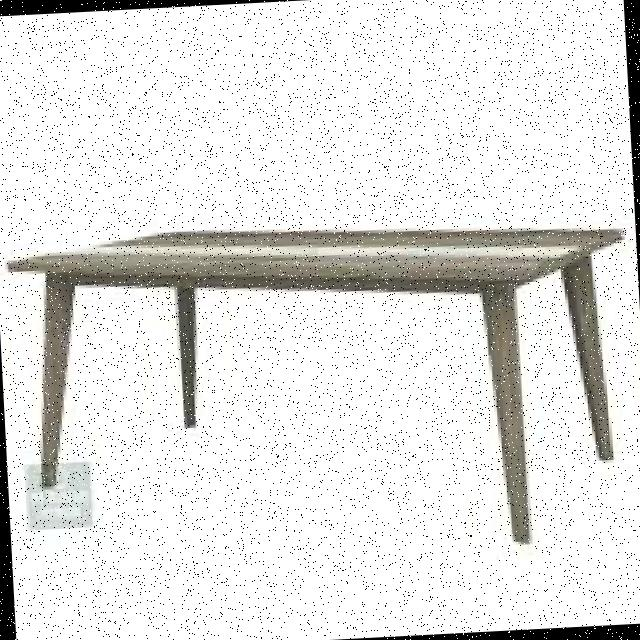Table: (0, 185, 640, 586)
